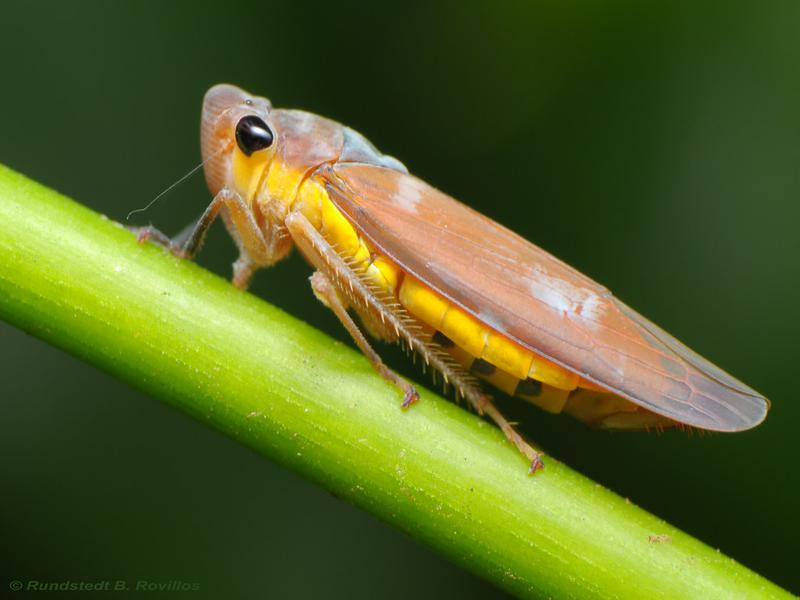Brown_plant_leafhopper: (177, 67, 782, 476)
